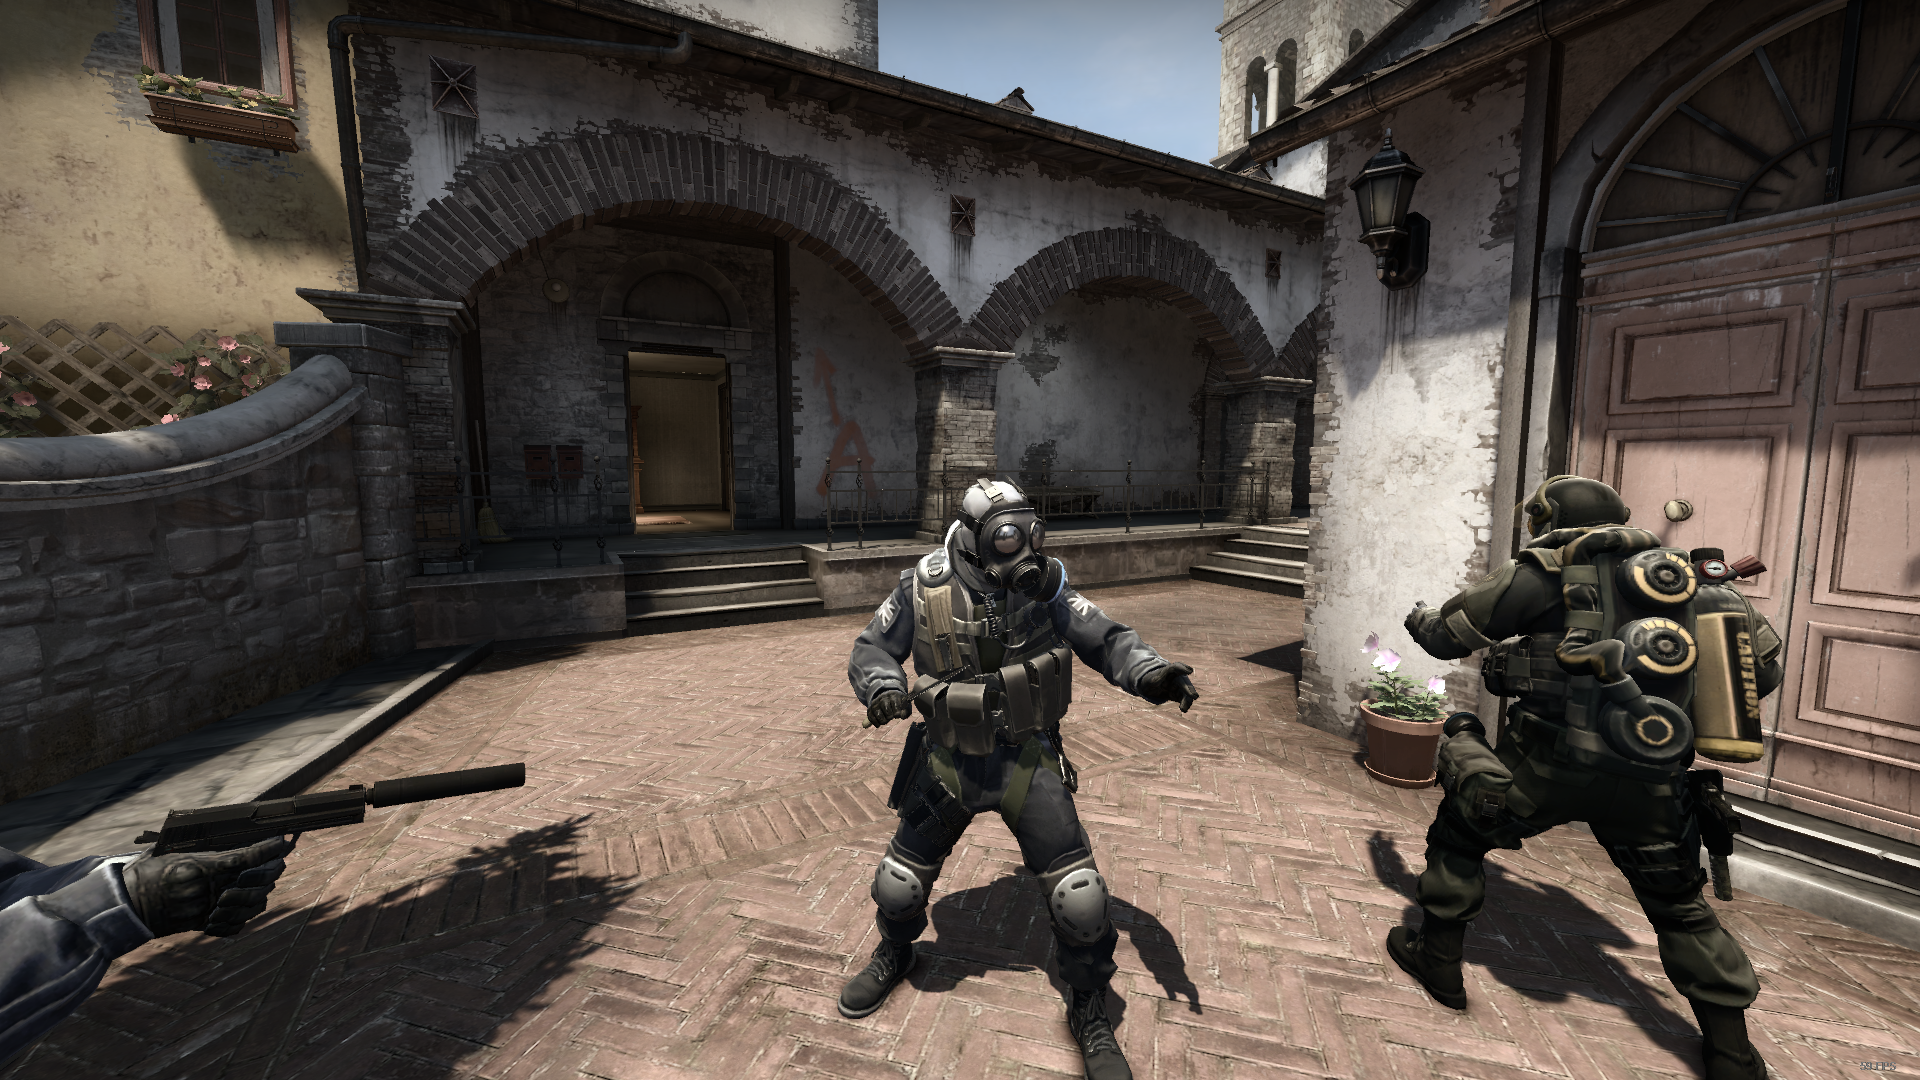ct: (843, 473, 1203, 1080)
